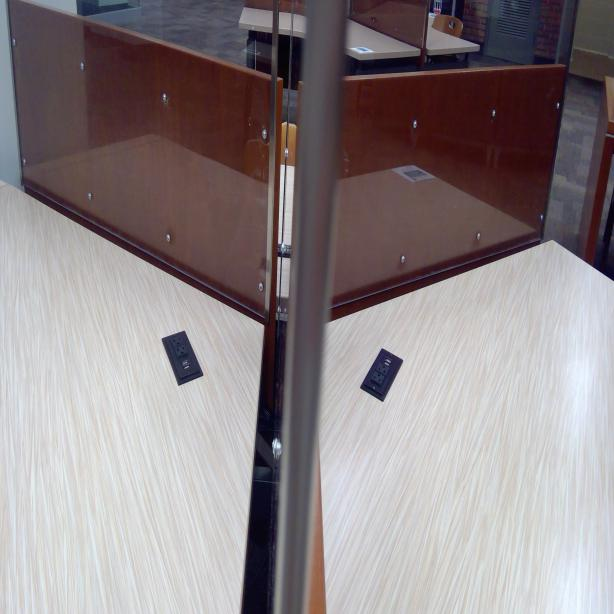typeb: (170, 331, 182, 347), (376, 359, 388, 374), (373, 370, 384, 386), (175, 343, 185, 359)
